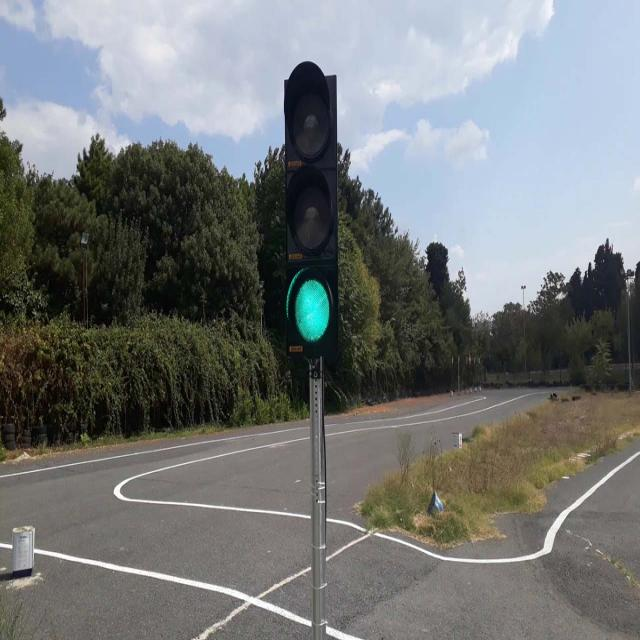yesil: (284, 69, 336, 358)
